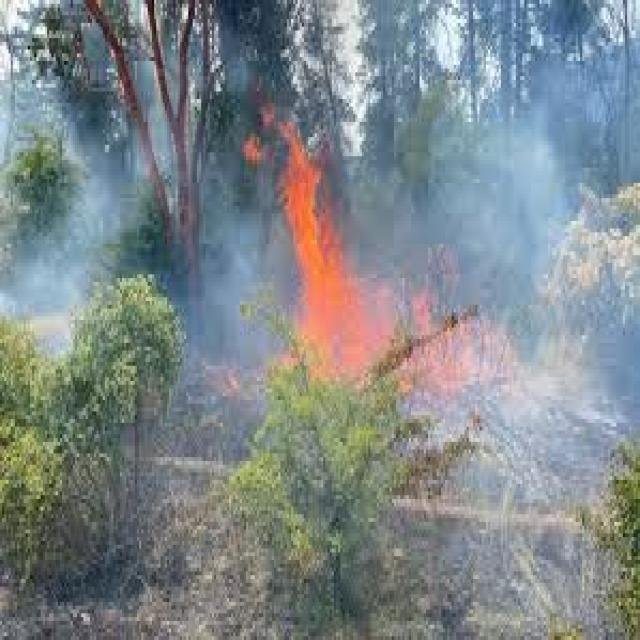Fire: (240, 106, 392, 393)
Smoke: (337, 0, 632, 189), (430, 98, 557, 382), (210, 197, 278, 371), (8, 222, 79, 342), (571, 79, 636, 177), (90, 165, 135, 263)
